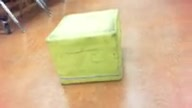cube: (45, 8, 122, 85)
